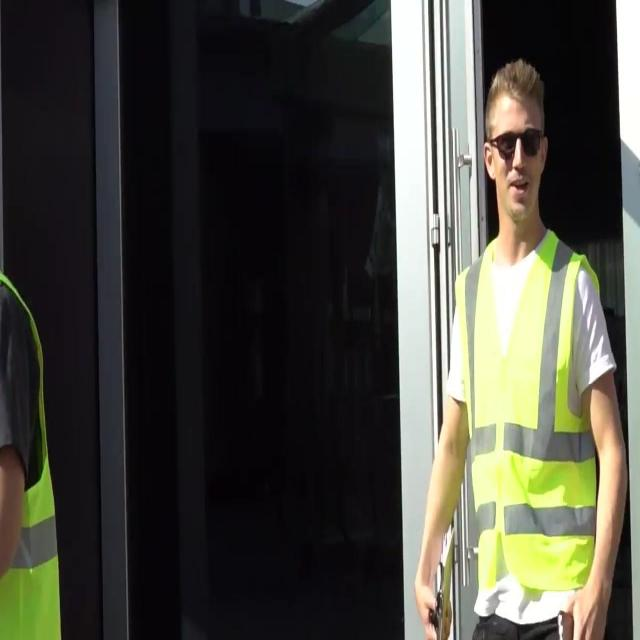Reflective-Jacket: (448, 228, 605, 612), (1, 249, 66, 640)
